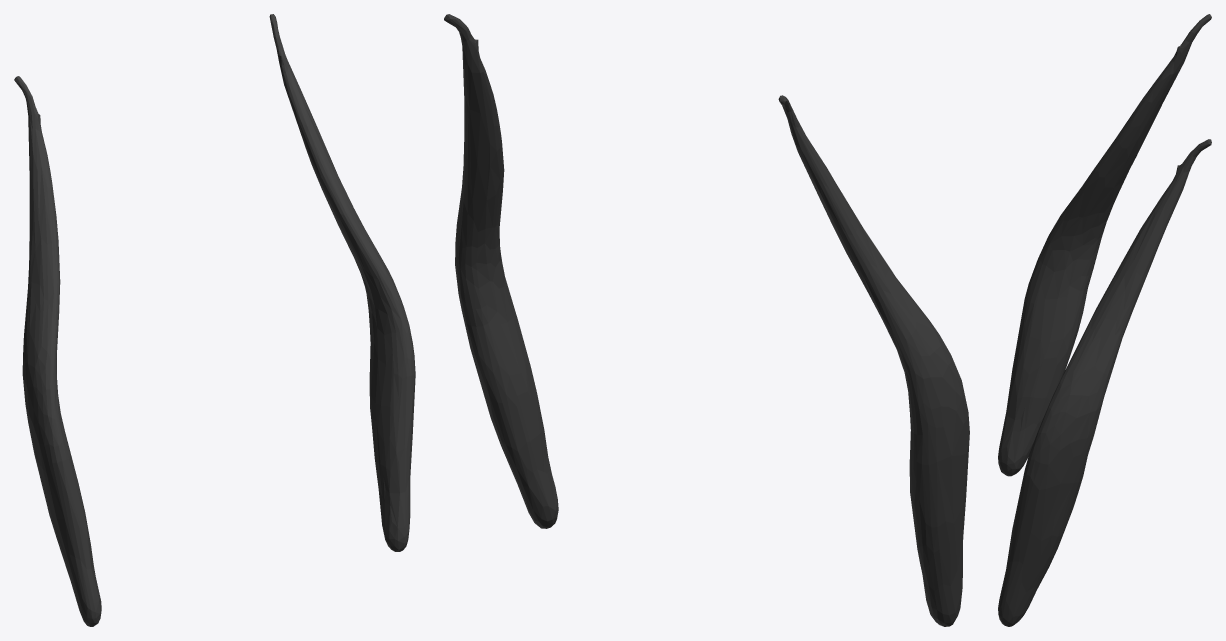
The model's file is m_brachialis.glb.
The picture shows the model from 3 angles, left to right: view 1: azimuth 30°, elevation 25°; view 2: azimuth 150°, elevation 25°; view 3: azimuth 270°, elevation 25°; orthographic projection. The views are drawn at different scales.
Parts seen in each view (by area): view 1: m_brachialis; view 2: m_brachialis; view 3: m_brachialis.
Boxes of the visible parts, left/top/right/bottom form: m_brachialis: left=14, top=14, right=415, bottom=626; m_brachialis: left=444, top=14, right=969, bottom=626; m_brachialis: left=998, top=14, right=1211, bottom=626.
Bounding box in the file's own units: 0.00441 × 0.00534 × 0.00218.
1 material, 1 textured.
